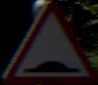Speed Breaker ahead: (16, 13, 86, 74)
